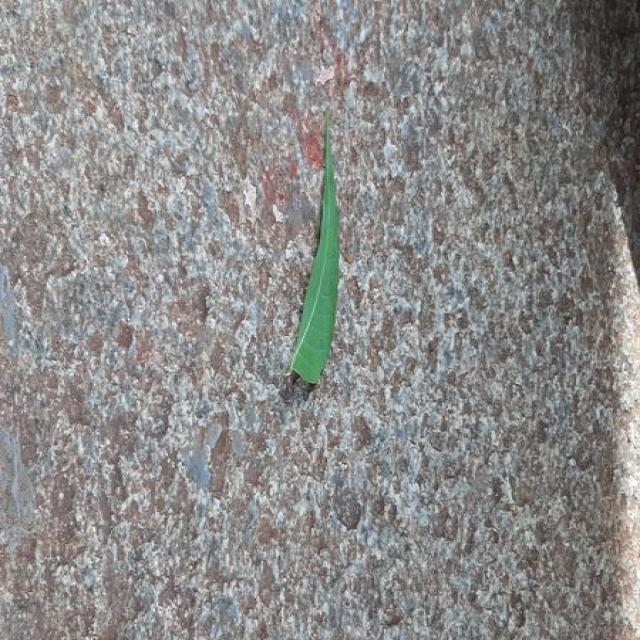neem: (290, 115, 340, 383)
